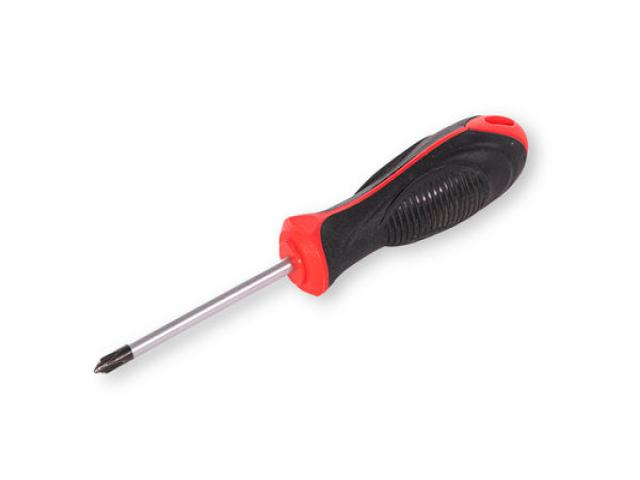Screwdriver: (95, 115, 528, 373)
